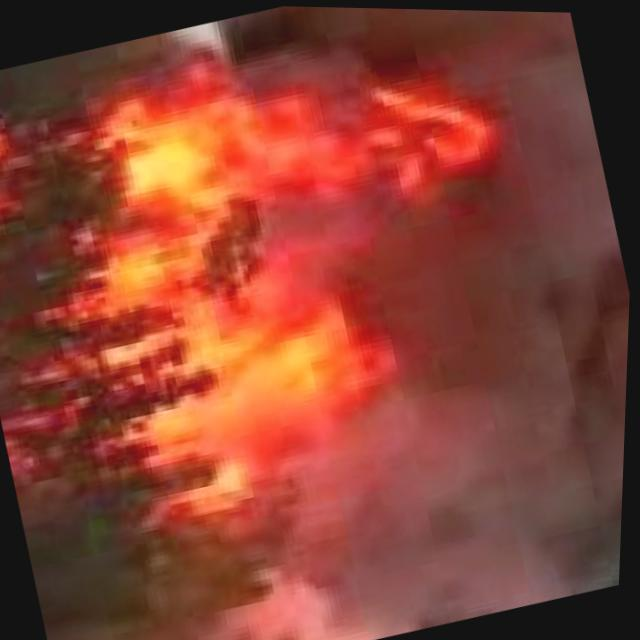fire: (51, 28, 593, 579), (0, 64, 177, 640)
